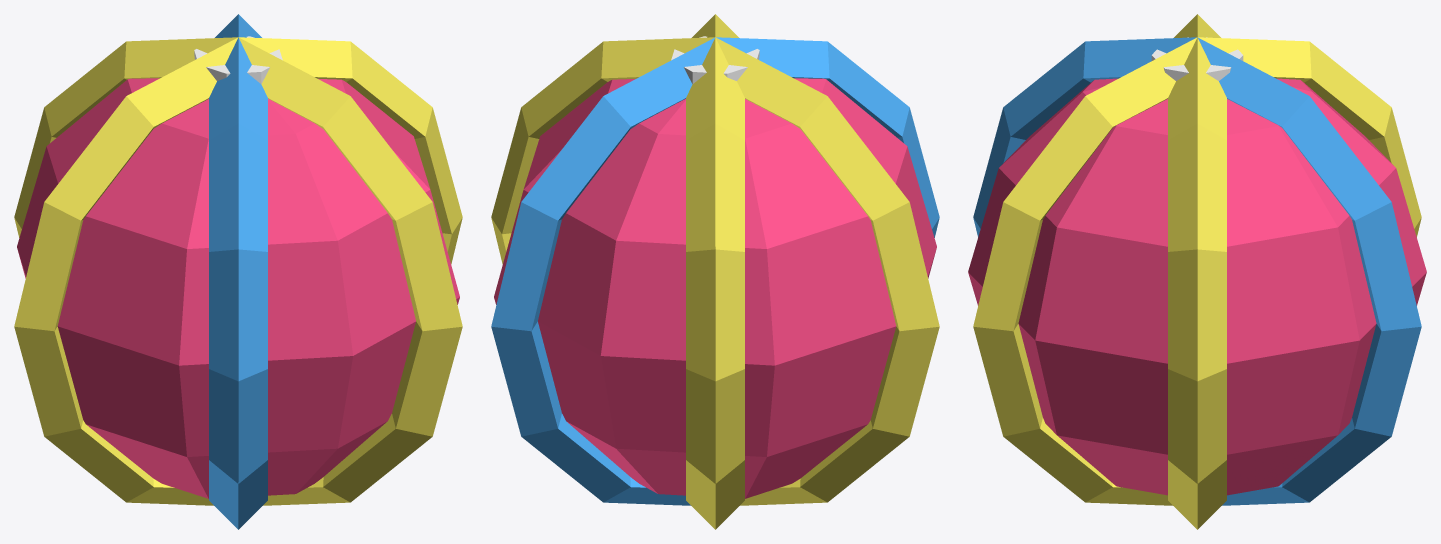
Rendered from bola.glb.
The picture shows the model from 3 angles, left to right: view 1: azimuth 30°, elevation 25°; view 2: azimuth 150°, elevation 25°; view 3: azimuth 270°, elevation 25°; orthographic projection.
Visible parts, largest first — view 1: bola, gomo_0, gomo_2, gomo_1, tampa; view 2: bola, gomo_0, gomo_1, gomo_2, tampa; view 3: bola, gomo_1, gomo_2, gomo_0, tampa.
Boxes of the visible parts, x1=… form: bola: x1=17, y1=78, x2=459, y2=498; gomo_0: x1=14, y1=37, x2=462, y2=505; gomo_2: x1=14, y1=37, x2=462, y2=505; gomo_1: x1=209, y1=14, x2=267, y2=529; tampa: x1=194, y1=36, x2=282, y2=84; bola: x1=494, y1=78, x2=936, y2=498; gomo_0: x1=491, y1=37, x2=939, y2=505; gomo_1: x1=491, y1=37, x2=939, y2=505; gomo_2: x1=686, y1=14, x2=744, y2=529; tampa: x1=671, y1=36, x2=759, y2=84; bola: x1=968, y1=78, x2=1426, y2=495; gomo_1: x1=973, y1=37, x2=1421, y2=505; gomo_2: x1=973, y1=37, x2=1421, y2=505; gomo_0: x1=1168, y1=14, x2=1226, y2=529; tampa: x1=1151, y1=37, x2=1243, y2=80.
Bounding box in the file's own units: 0.79 × 0.79 × 0.7.
